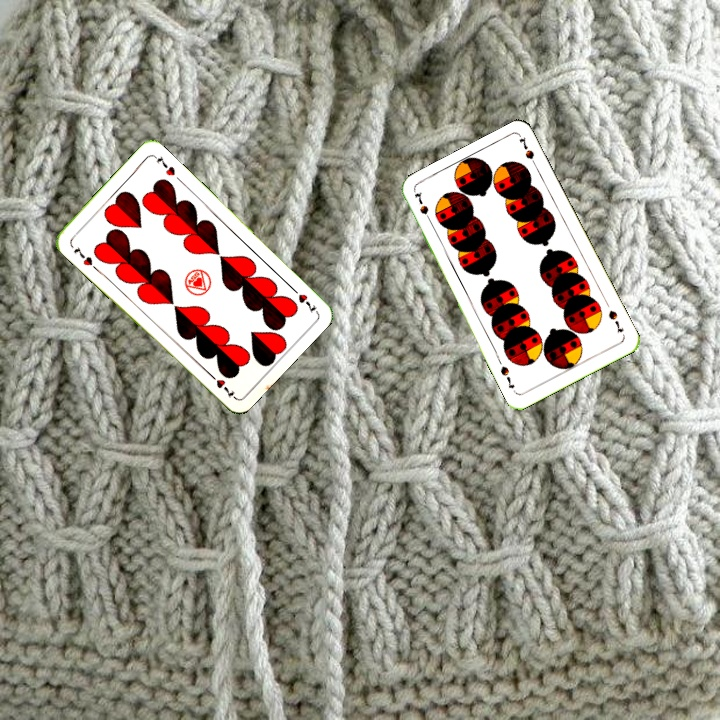H7: (287, 283, 320, 315), (69, 242, 95, 268)
S7: (411, 188, 434, 226), (604, 306, 626, 336)
